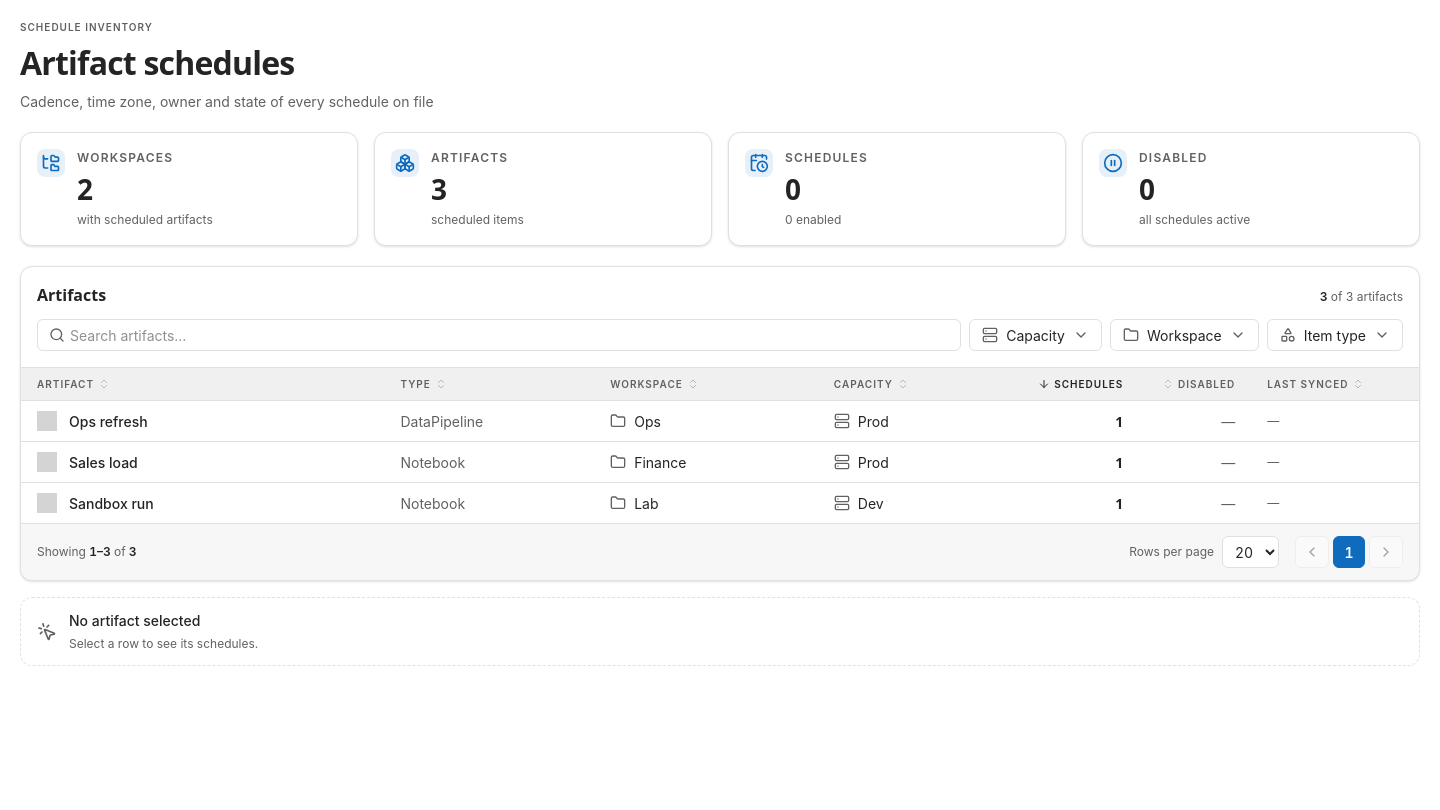
Test: InventoryView filters › narrows by capacity, shows a removable chip and narrows workspaces
Expected: the text "3 of 3 artifacts" is shown, [1320,288,1403,306]
Click the 1st button "Capacity". click: (1036, 335)
box: [969,319,1102,351]
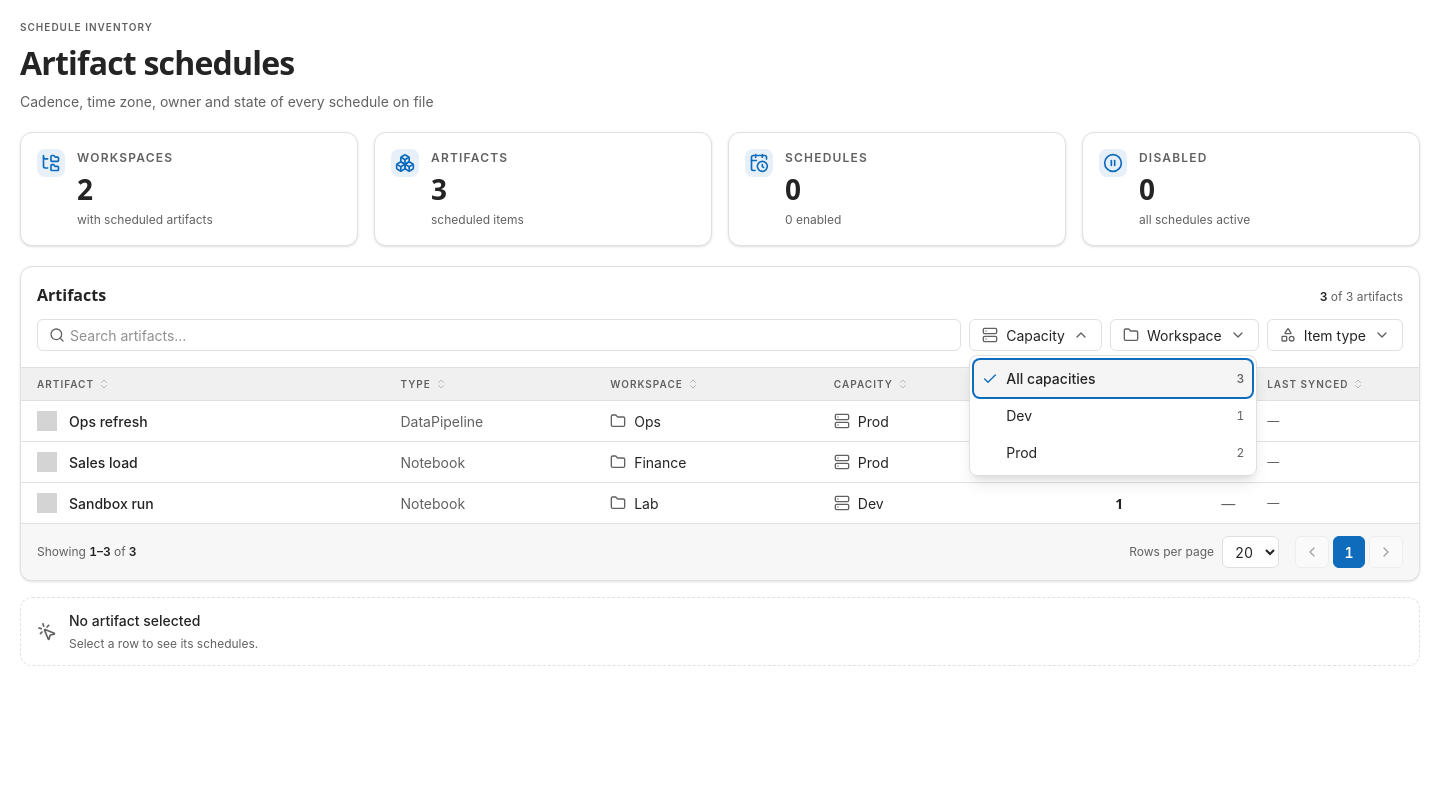
Click the option "Prod 2". click: (1022, 452)
box: [1006,444,1244,461]
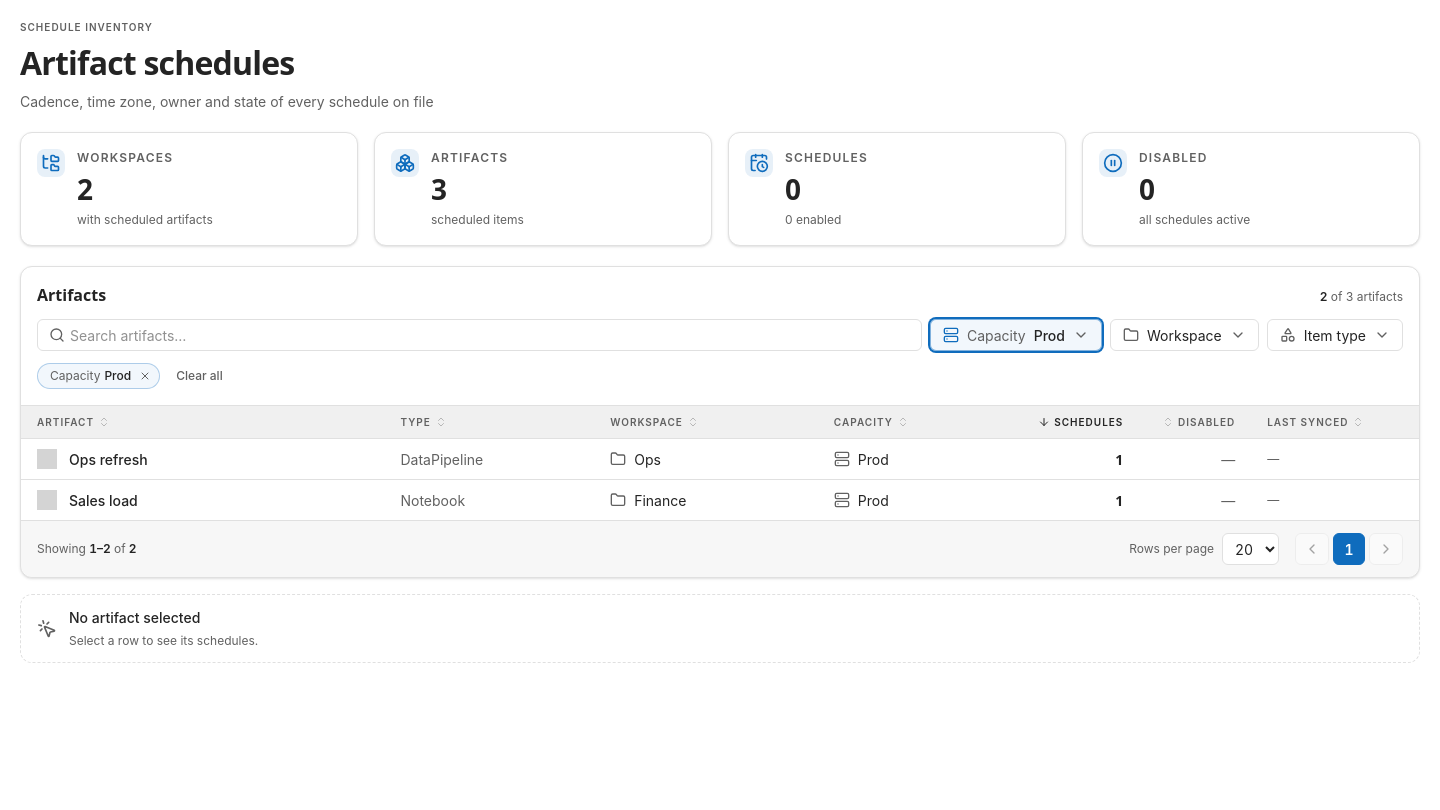
Result: the text "2 of 3 artifacts" is shown at [1320,288,1403,306]
Result: the 2nd text "Prod" is shown at [104,367,131,385]
Click the 1st button "Workspace". click: (1184, 335)
box: [1110,319,1259,351]
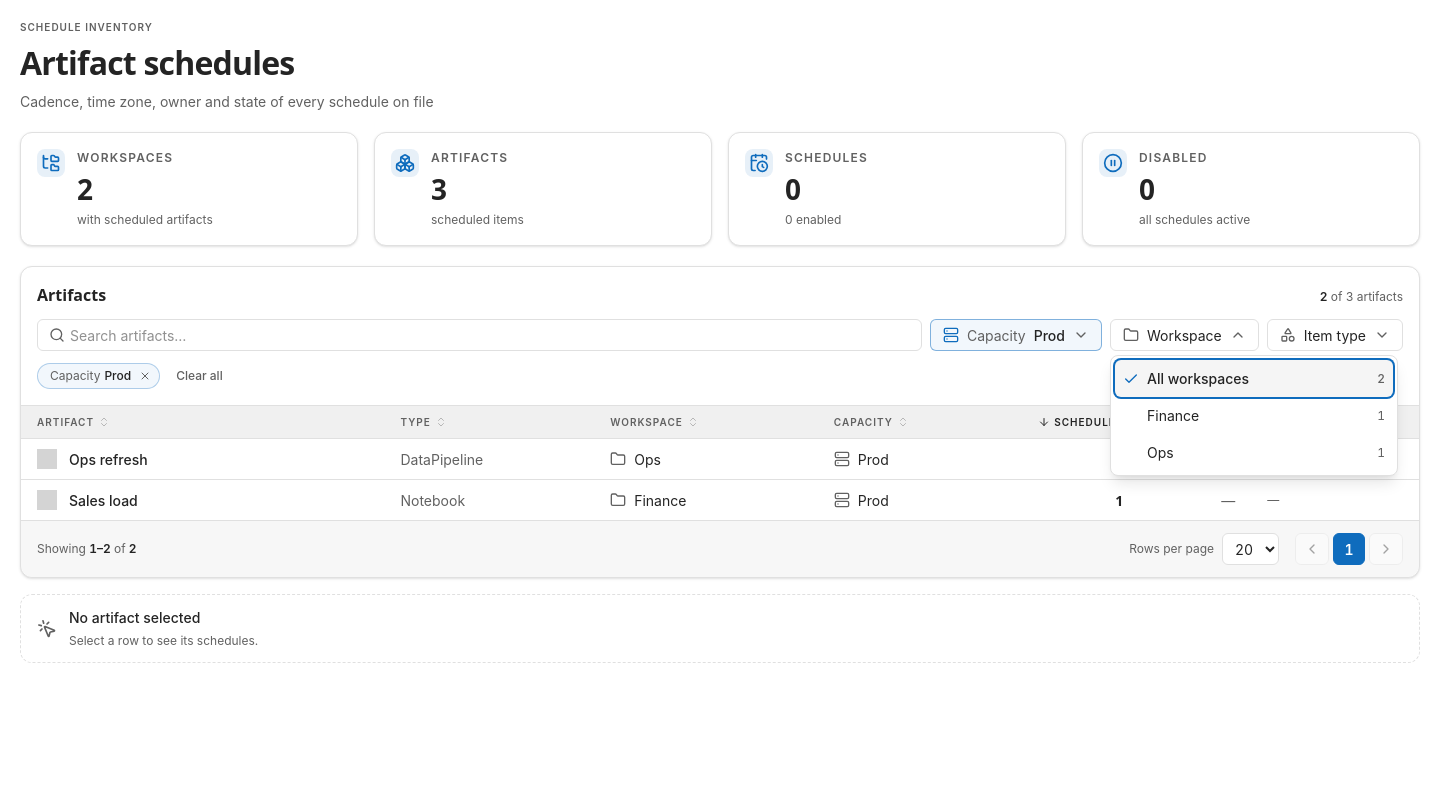
Result: the options read "All workspaces2", "Finance1", "Ops1", in this order at [1115,360,1393,397]; [1147,407,1385,424]; [1147,444,1385,461]
Press Escape in the list "All workspaces 2 Finance 1 Ops 1", box [1111,356,1397,475]
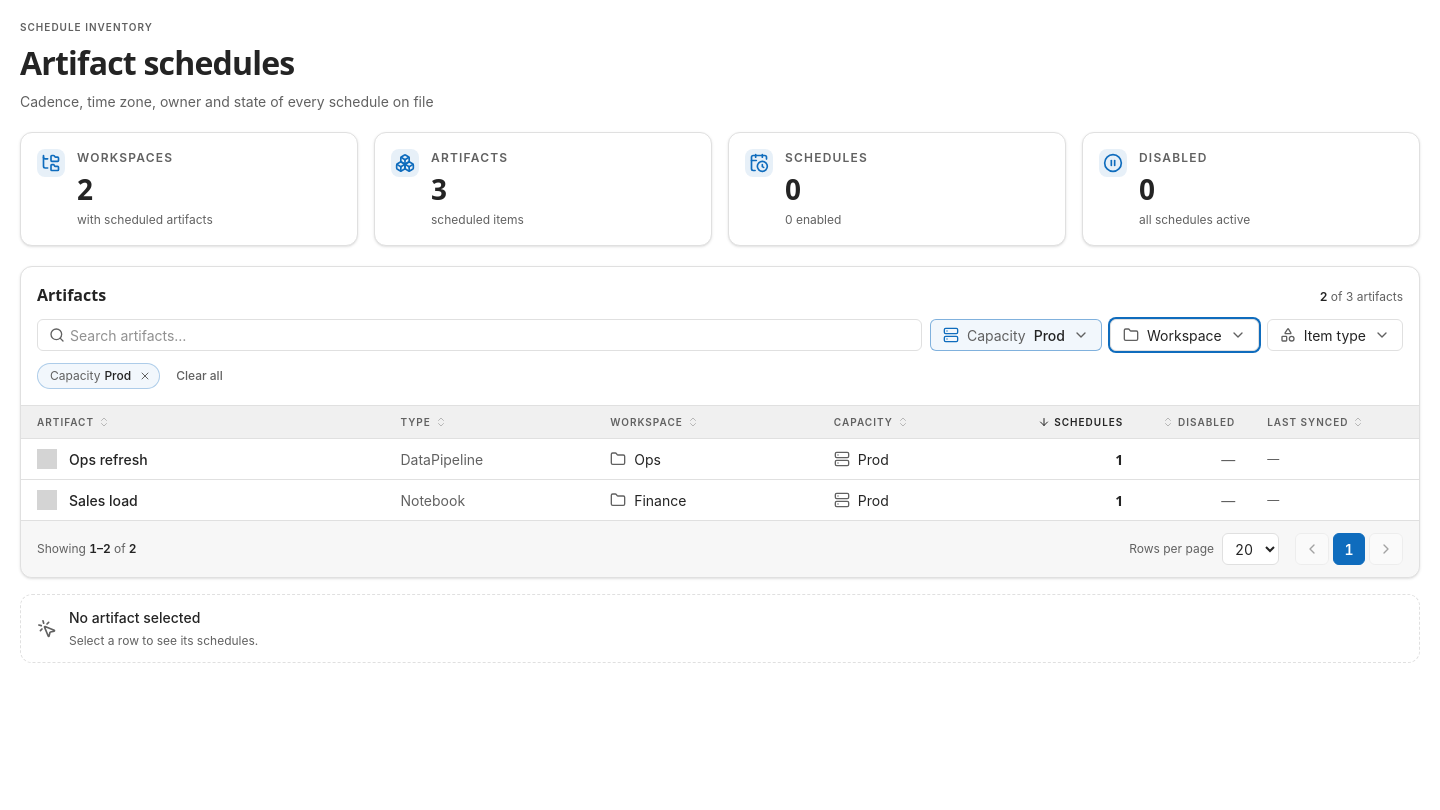
Click the button named "Remove capacity filter". click: (145, 376)
box: [135,366,155,386]
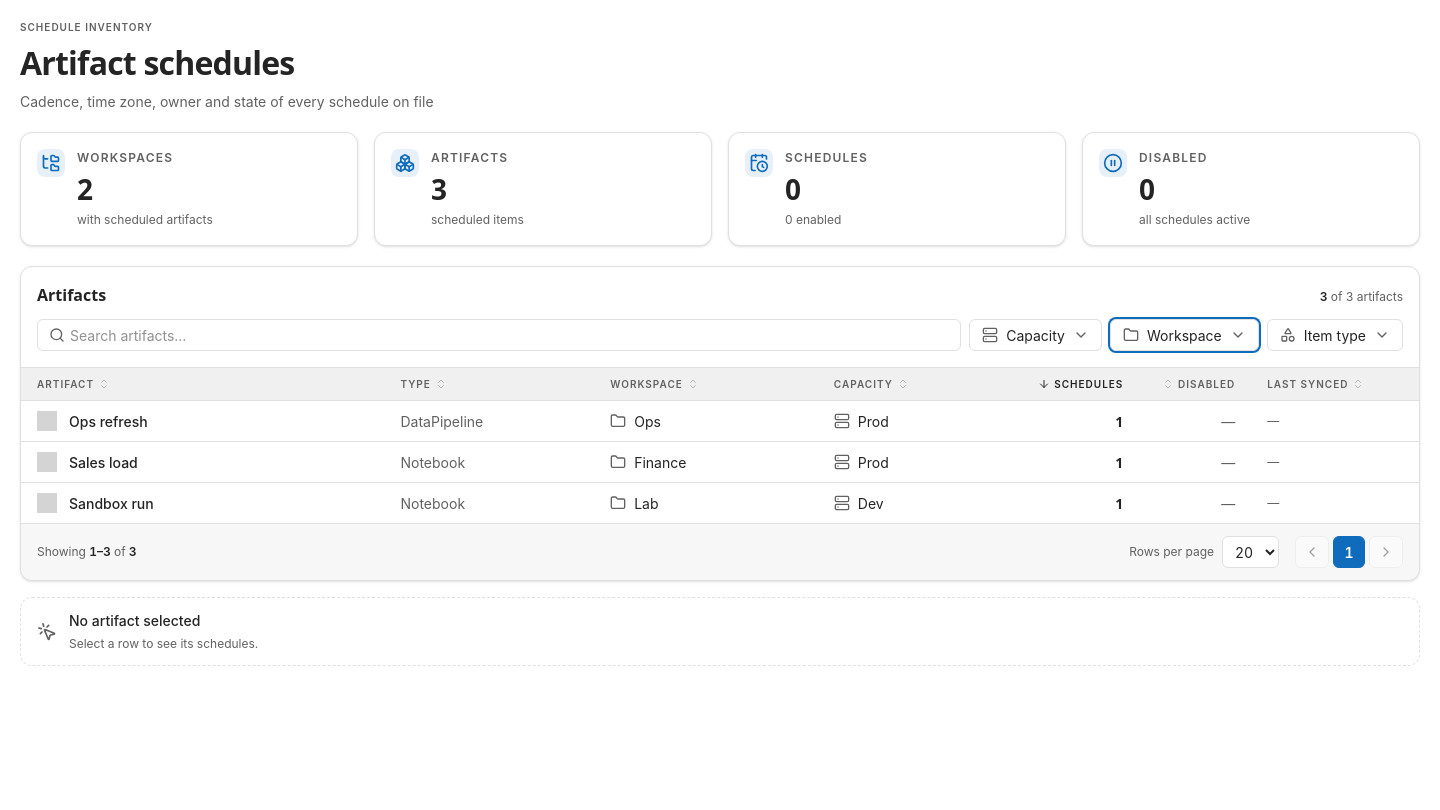
Result: the text "3 of 3 artifacts" is shown at [1320,288,1403,306]
